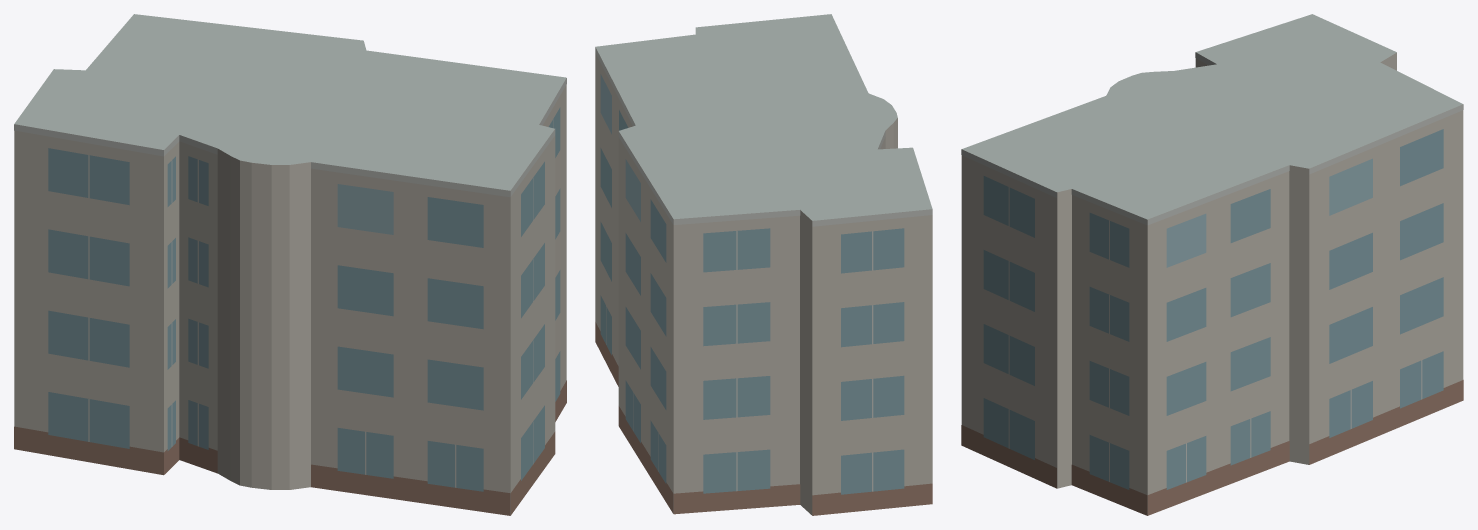
Rendered from survey-upis-32569248.glb.
The picture shows the model from 3 angles, left to right: view 1: azimuth 30°, elevation 25°; view 2: azimuth 150°, elevation 25°; view 3: azimuth 270°, elevation 25°; orthographic projection. The views are drawn at different scales.
Visible parts, largest first — view 1: survey-upis-32569248.tmp; view 2: survey-upis-32569248.tmp; view 3: survey-upis-32569248.tmp.
Boxes of the visible parts, x1,y1,x2,y2 form: survey-upis-32569248.tmp: (14, 14, 566, 515); survey-upis-32569248.tmp: (595, 14, 932, 515); survey-upis-32569248.tmp: (961, 14, 1463, 515).
Bounding box in the file's own units: 18.31 × 12.3 × 18.89.
